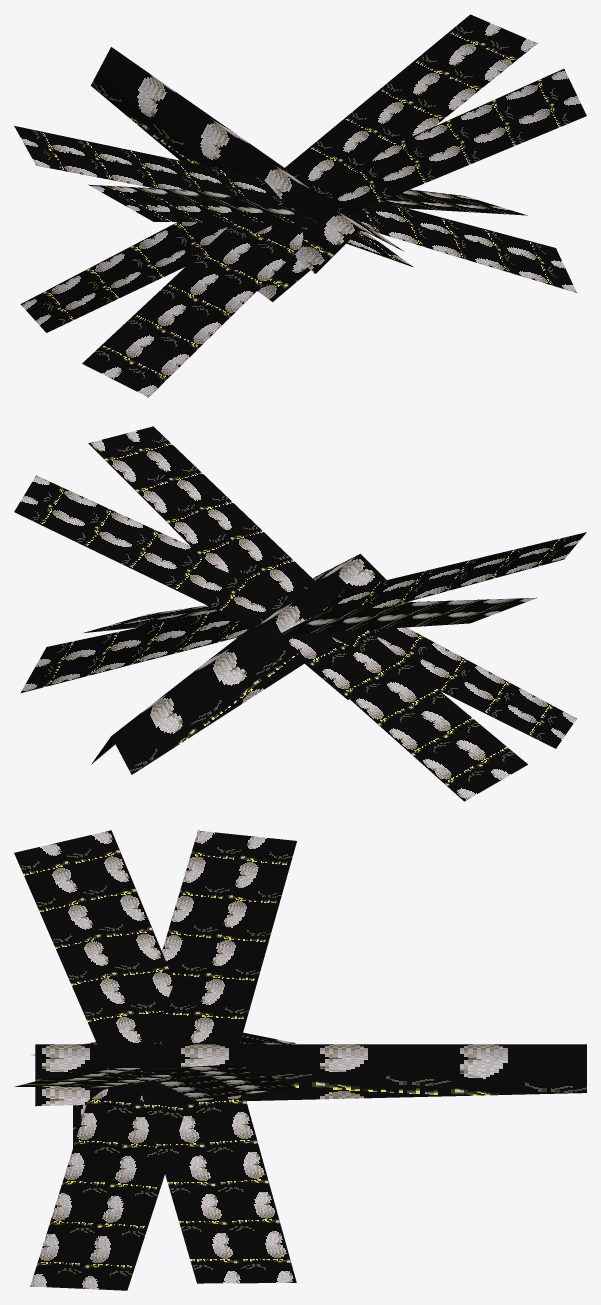
The model's file is 4999musi09.gltf.
3 views of the same model, one above another, from view 1: azimuth 30°, elevation 25°; view 2: azimuth 150°, elevation 25°; view 3: azimuth 270°, elevation 25° (orthographic). The views are drawn at different scales.
Parts seen in each view (by area): view 1: 4999musi09; view 2: 4999musi09; view 3: 4999musi09.
Boxes of the visible parts, box(x1,y1,x2,y2) form: 4999musi09: box(14, 14, 586, 397); 4999musi09: box(14, 426, 586, 801); 4999musi09: box(14, 830, 586, 1290).
Bounding box in the file's own units: 0.4717 × 0.1724 × 0.4219.
Materials: 2 (2 with a texture image).
